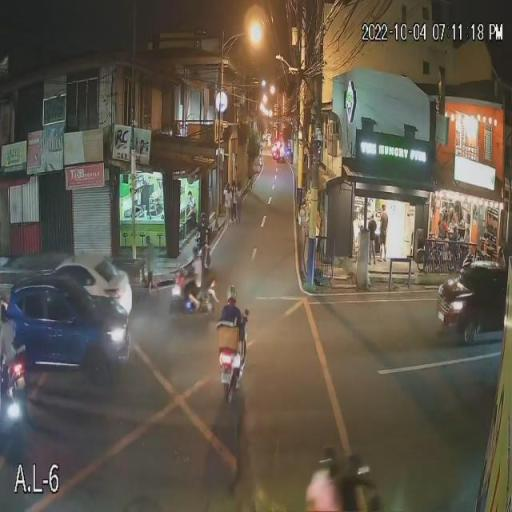helmet: (192, 244, 202, 260), (226, 286, 235, 302)
motorcycle: (214, 336, 250, 401), (165, 275, 219, 314)
rider: (221, 280, 240, 353), (187, 245, 201, 292)
